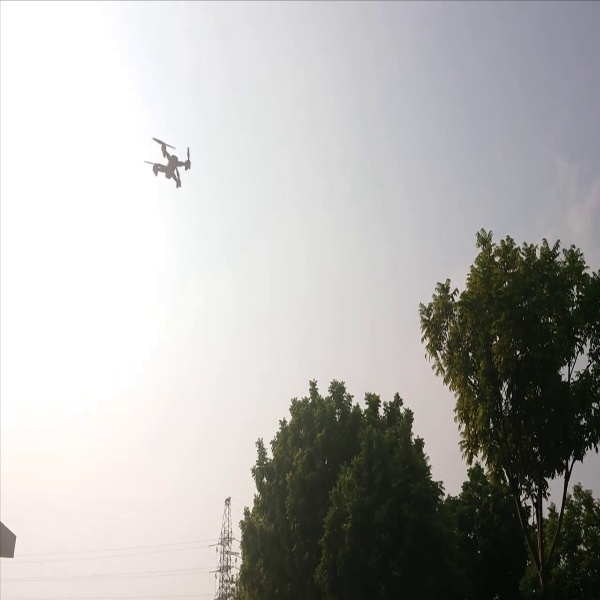drone: (135, 129, 201, 193)
